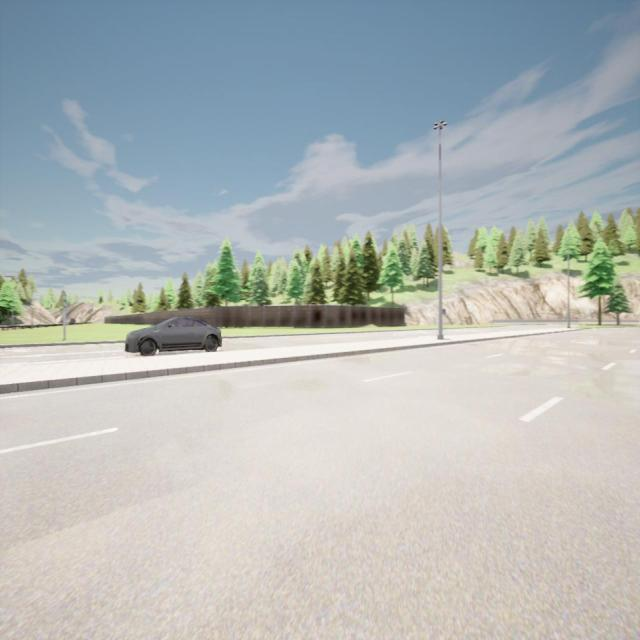Vehicle: (125, 317, 223, 356)
